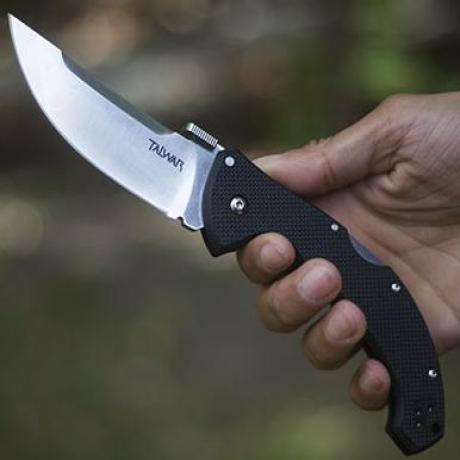1: (244, 82, 460, 406)
weapon: (1, 13, 444, 452)
